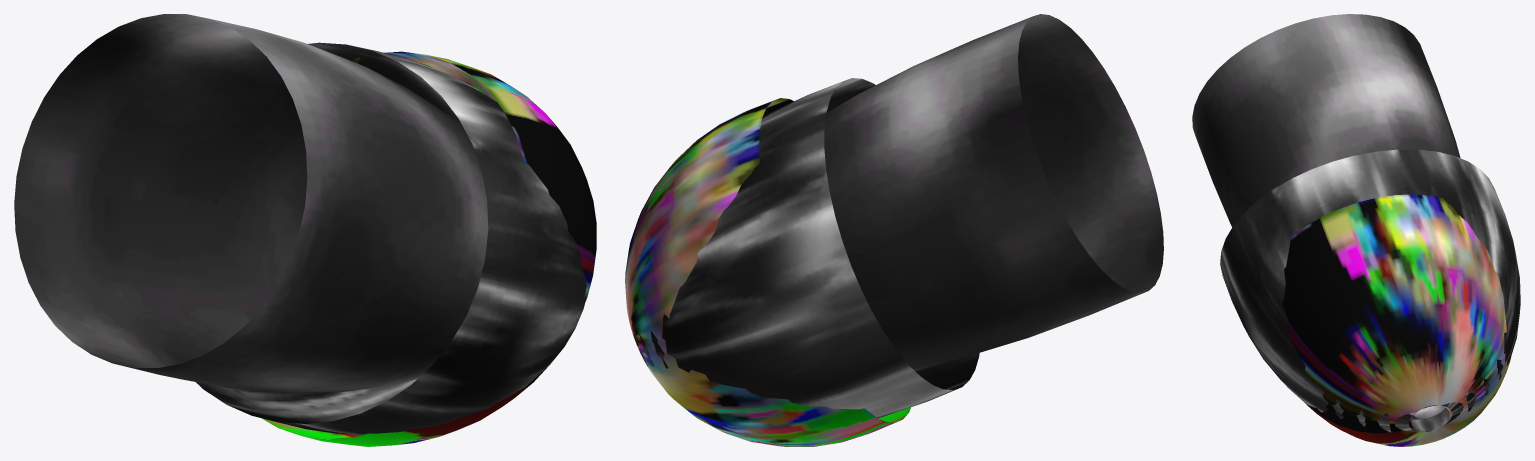
Rendered from fx_cookie0001_front_skill02_loop.fbx.
3 views of the same model, side by side, from view 1: azimuth 30°, elevation 25°; view 2: azimuth 150°, elevation 25°; view 3: azimuth 270°, elevation 25° (orthographic). The views are drawn at different scales.
Parts seen in each view (by area): view 1: mesh_01 (3), mesh_01 (5), mesh_01 (4); view 2: mesh_01 (3), mesh_01 (5), mesh_01 (4); view 3: mesh_01 (4), mesh_01 (3), mesh_01 (5).
Part boxes in pixels (x1,y1,x2,y2): mesh_01 (3): (14,14,488,392); mesh_01 (5): (196,42,586,434); mesh_01 (4): (262,51,596,446); mesh_01 (3): (824,14,1163,369); mesh_01 (5): (632,78,979,417); mesh_01 (4): (625,98,910,446); mesh_01 (4): (1282,194,1510,446); mesh_01 (3): (1192,14,1460,419); mesh_01 (5): (1220,149,1520,432).
Size of the model in its own units: 497 by 425 by 372.
3 materials, 3 textured.
